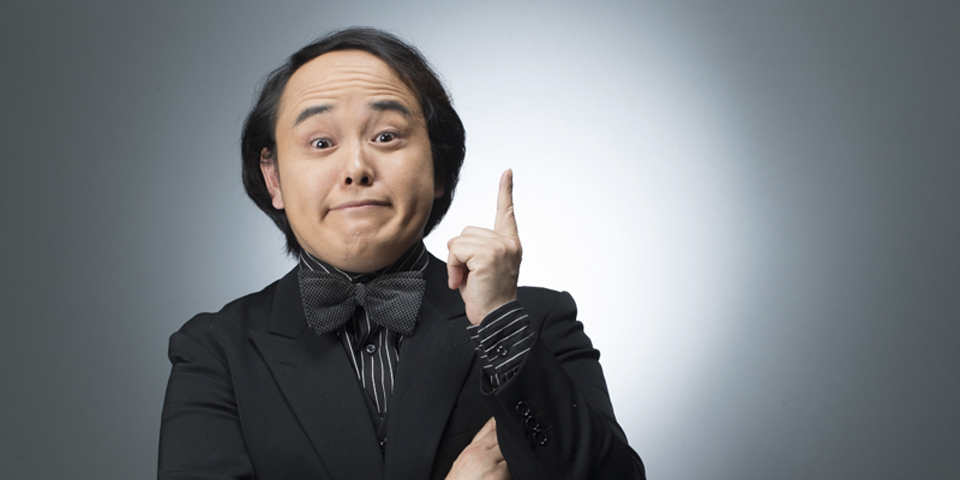face: (260, 47, 436, 272)
hand: (447, 167, 525, 323)
